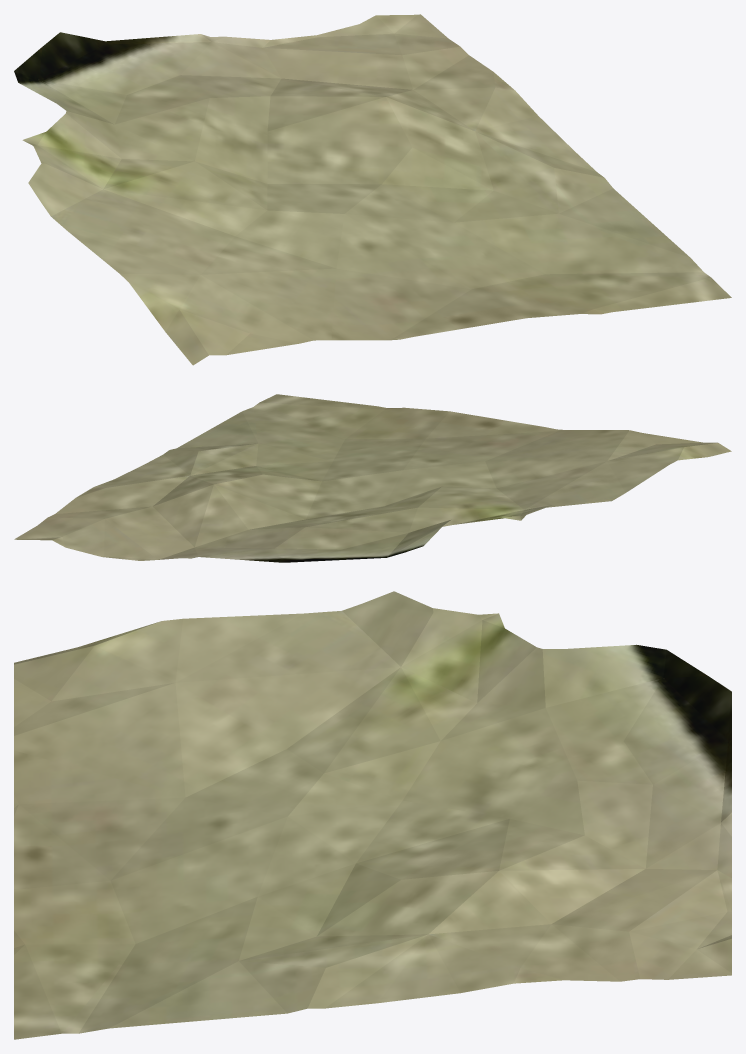
3 renders of one model, top to bottom at view 1: azimuth 30°, elevation 25°; view 2: azimuth 150°, elevation 25°; view 3: azimuth 270°, elevation 25°, orthographic. The views are drawn at different scales.
Bounding box in the file's own units: 0.8374 × 0.1867 × 0.8374.
2 materials, 2 textured.
